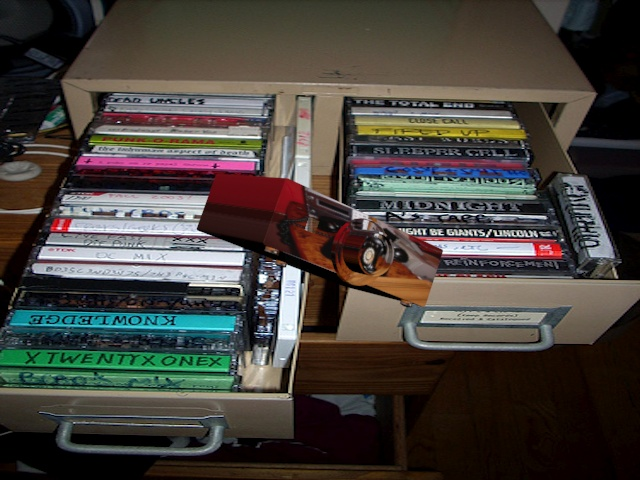projector: (192, 160, 449, 321)
